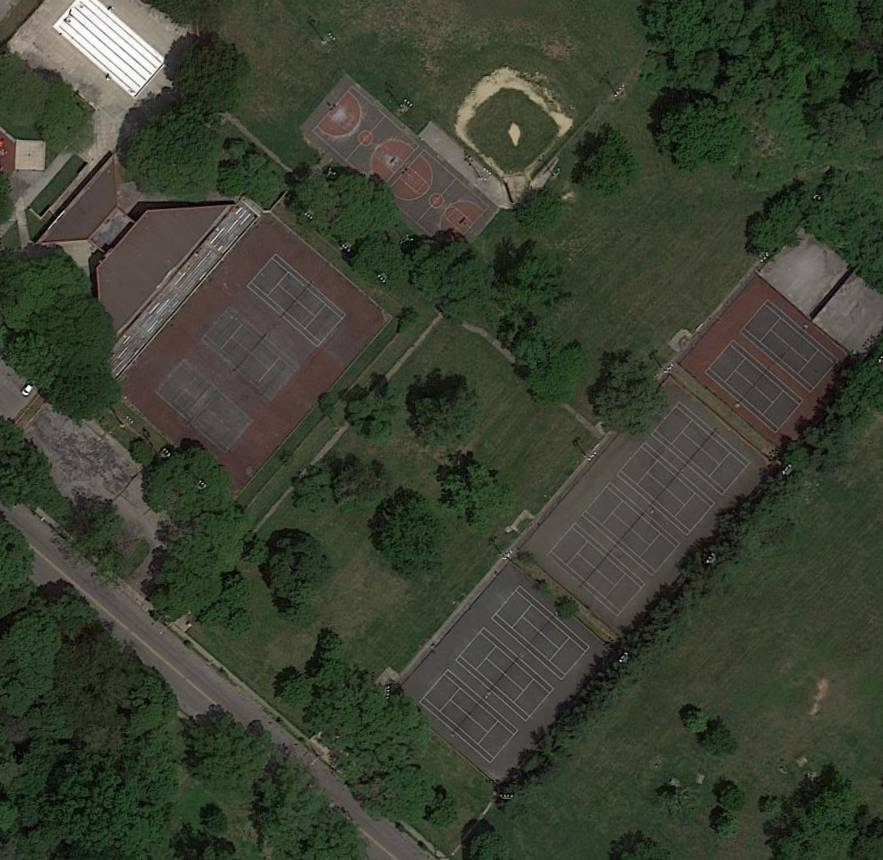baseball diamond: (442, 53, 580, 188)
basketball court: (314, 88, 419, 190), (386, 150, 489, 252)
tennis court: (202, 307, 300, 400), (493, 587, 590, 680), (420, 671, 518, 763), (456, 629, 553, 721), (583, 484, 680, 576), (618, 444, 715, 536), (653, 403, 750, 495), (706, 341, 803, 433), (157, 361, 253, 453), (249, 256, 346, 347), (548, 525, 645, 616), (741, 301, 838, 392)
